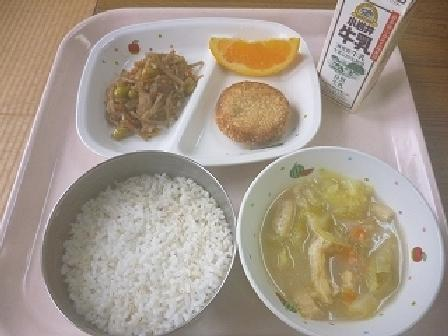Citrus: (202, 21, 307, 82)
Milk: (310, 0, 418, 102)
Rice: (38, 148, 236, 335)
Soups: (235, 143, 443, 333)
cutlet: (208, 76, 294, 151)
salad with sauce: (99, 48, 198, 136)
